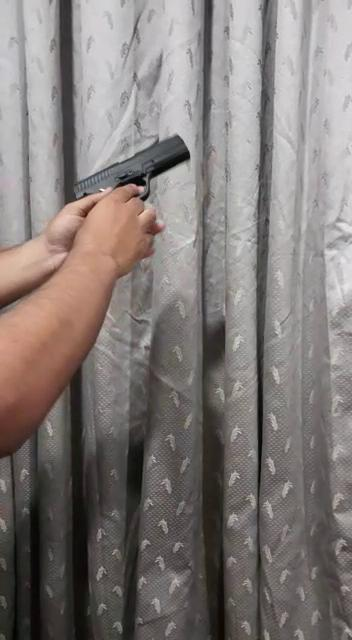weapon: (67, 125, 196, 223)
